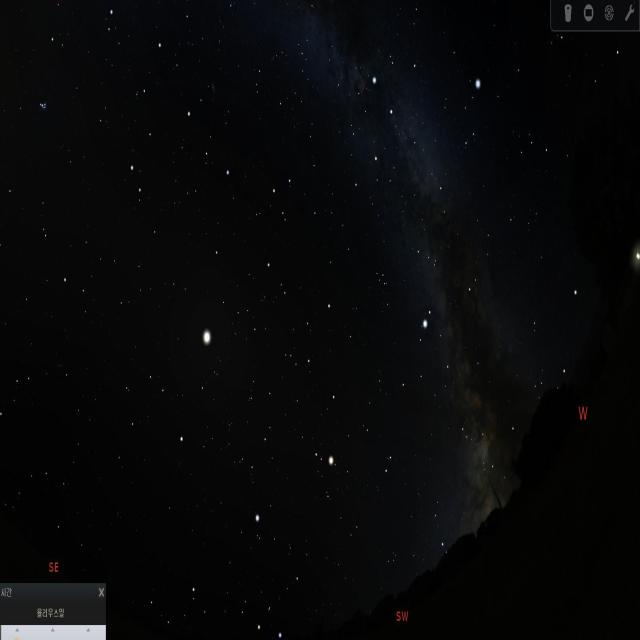aquila: (391, 305, 483, 454)
cygnus: (367, 48, 448, 193)
lyra: (455, 66, 488, 161)
pleiades: (31, 94, 55, 122)
